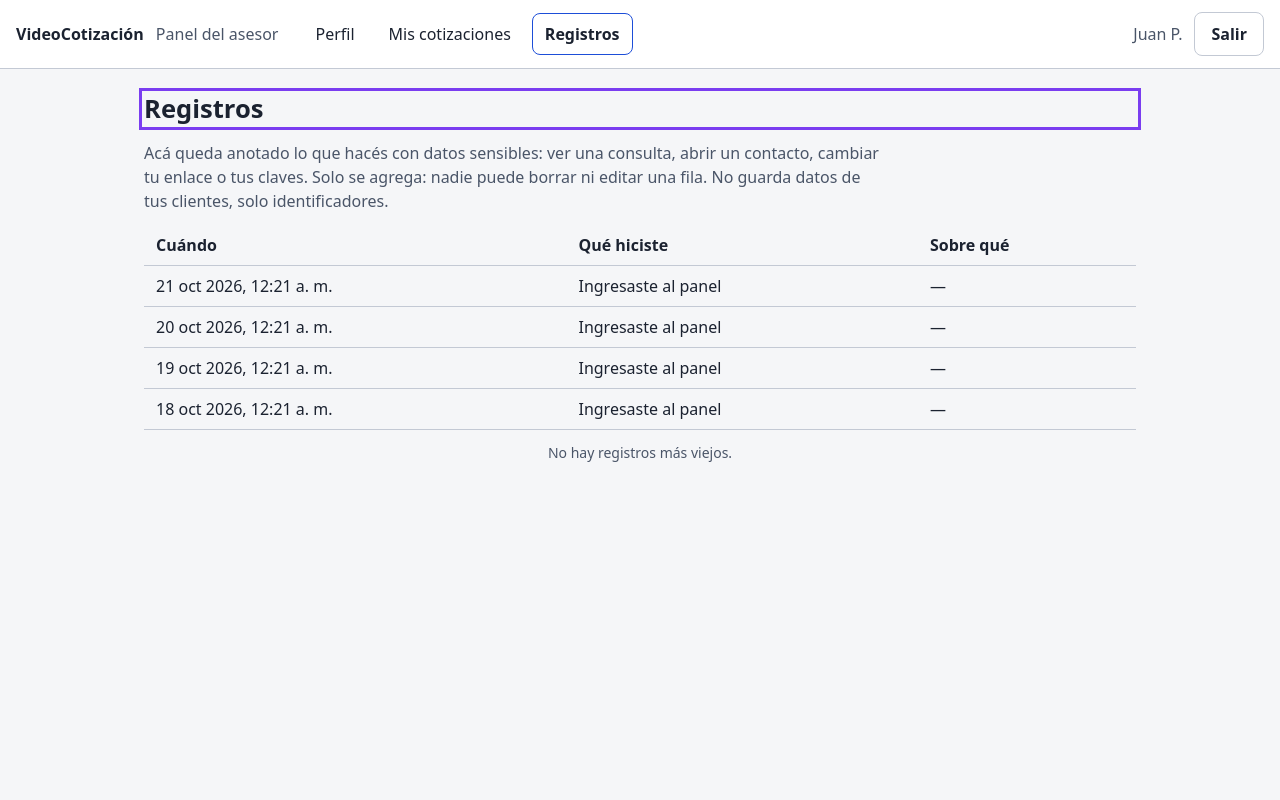
Test: sesión del panel › si la sesión fue revocada (credencial inválida) también vuelve a Ingresar
Click the link "Mis cotizaciones" at coordinates (450, 34), box left=388, top=23, right=511, bottom=45
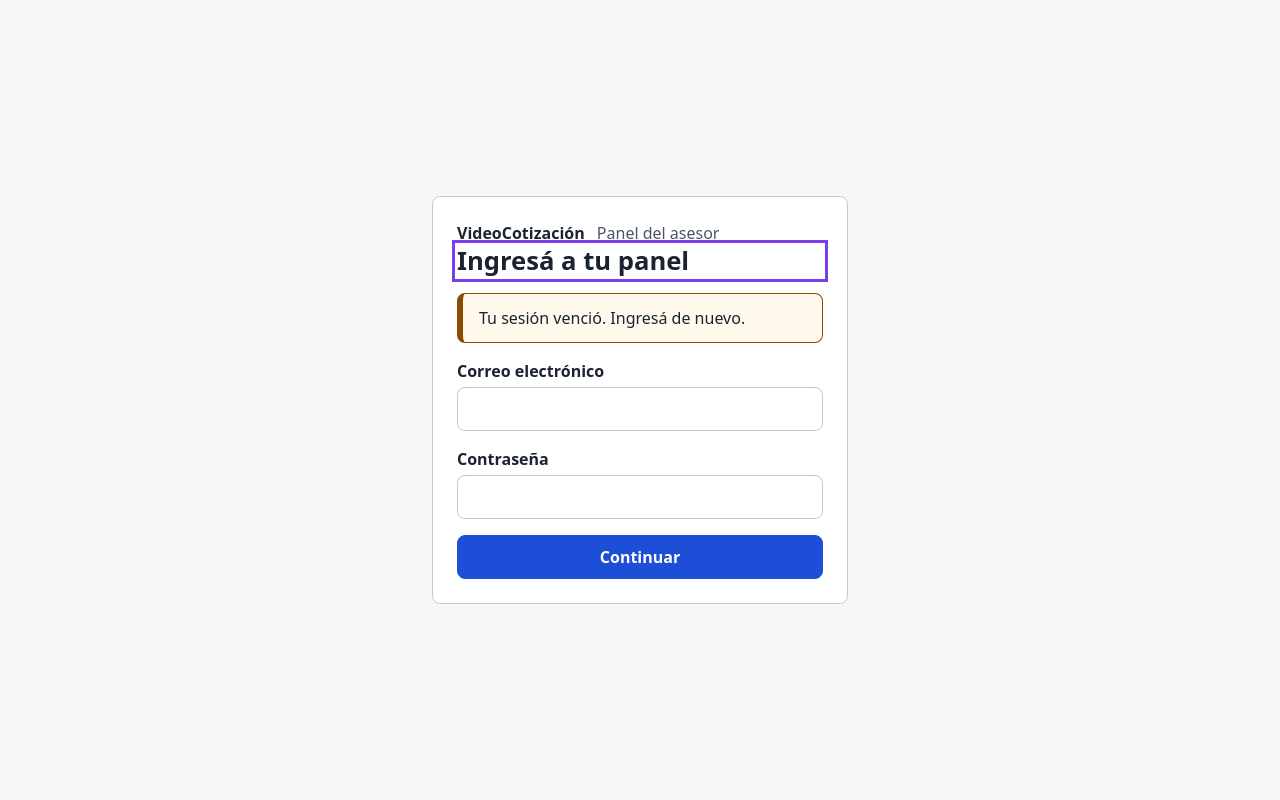
Expected: the heading "Ingresá a tu panel" is shown, left=457, top=243, right=689, bottom=278
Expected: the message reads "Tu sesión venció. Ingresá de nuevo.", left=479, top=307, right=745, bottom=329
